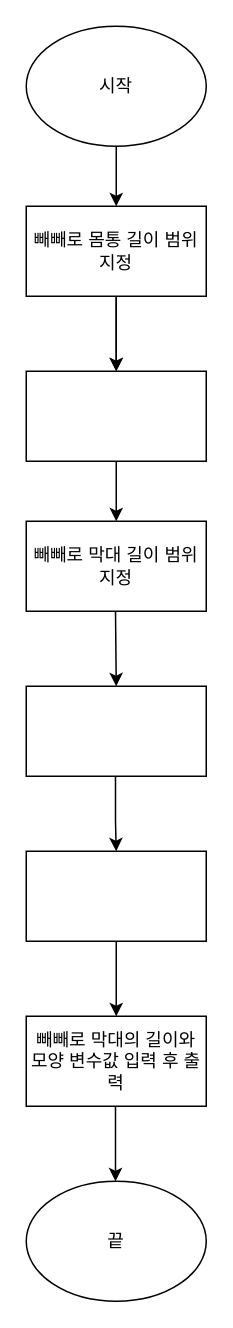
This 233x1328 diagram has some shape labels left out. Here are the shapes that lost their labels. From the top down, the centre of each, then its label:
point (115, 415): 토핑과 바디 출력형태 지정
point (115, 730): 막대모양 출력 형태 지정
point (115, 895): 빼빼로 몸통의 길이, 바디, 토핑 변수값 입력 후 출력
